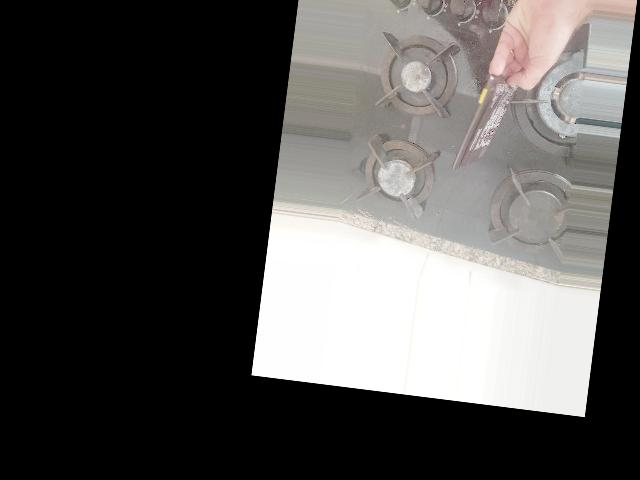chocolate: (449, 60, 522, 177)
